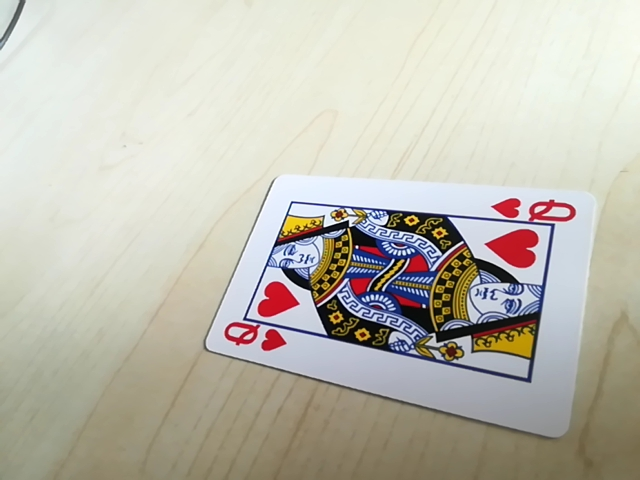hx q: (490, 194, 581, 225), (216, 322, 286, 356)
